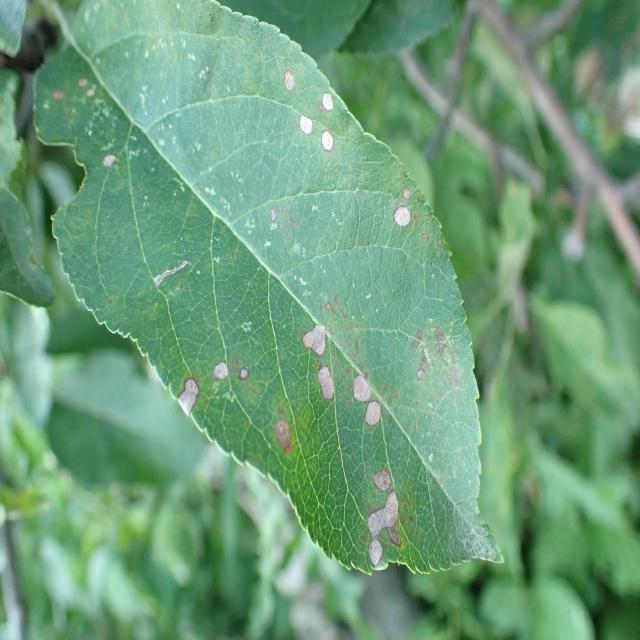Black Rot: (347, 457, 412, 568), (349, 362, 389, 444), (170, 366, 210, 428), (273, 412, 308, 481), (285, 309, 334, 358), (267, 48, 311, 99), (95, 137, 132, 190), (312, 357, 337, 431), (202, 343, 238, 390), (388, 184, 415, 238), (314, 82, 357, 113), (294, 102, 318, 140), (316, 127, 338, 155)
